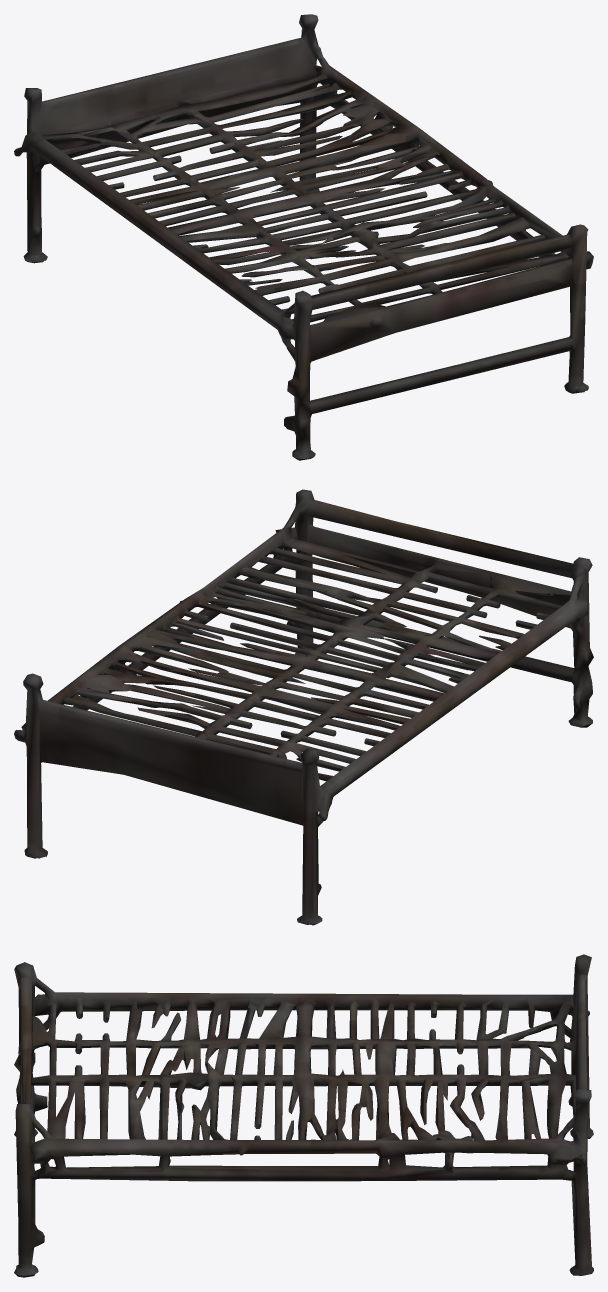
File: sturdy-iron-asylum-bed-v001.glb
3 renders of one model, top to bottom at view 1: azimuth 30°, elevation 25°; view 2: azimuth 150°, elevation 25°; view 3: azimuth 270°, elevation 25°, orthographic. The views are drawn at different scales.
Parts seen in each view (by area): view 1: sturdy-iron-asylum-bed; view 2: sturdy-iron-asylum-bed; view 3: sturdy-iron-asylum-bed.
Boxes of the visible parts, x1=… form: sturdy-iron-asylum-bed: x1=14, y1=14, x2=593, y2=460; sturdy-iron-asylum-bed: x1=14, y1=489, x2=593, y2=925; sturdy-iron-asylum-bed: x1=14, y1=954, x2=593, y2=1277.
Bounding box in the file's own units: 2.15 × 1.17 × 3.32.
Materials: 1 (1 with a texture image).
